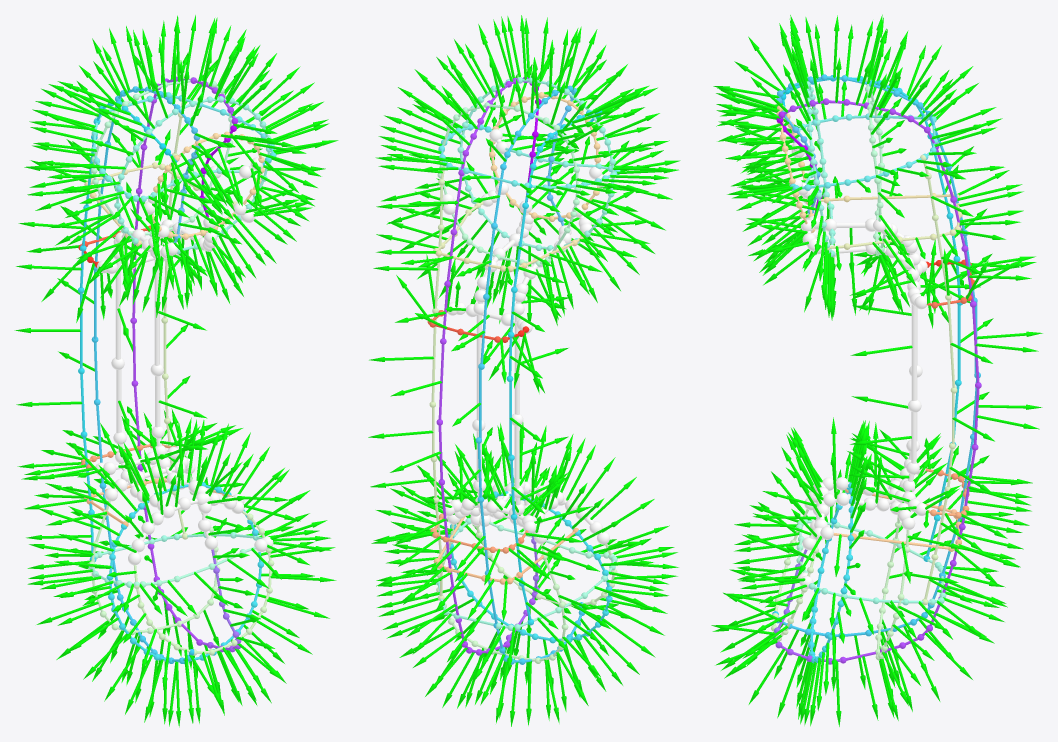
File: flowrep_phone.gltf
3 renders of one model, left to right at view 1: azimuth 30°, elevation 25°; view 2: azimuth 150°, elevation 25°; view 3: azimuth 270°, elevation 25°, orthographic.
Size of the model in its own units: 0.4614 by 1.11 by 0.4905.
